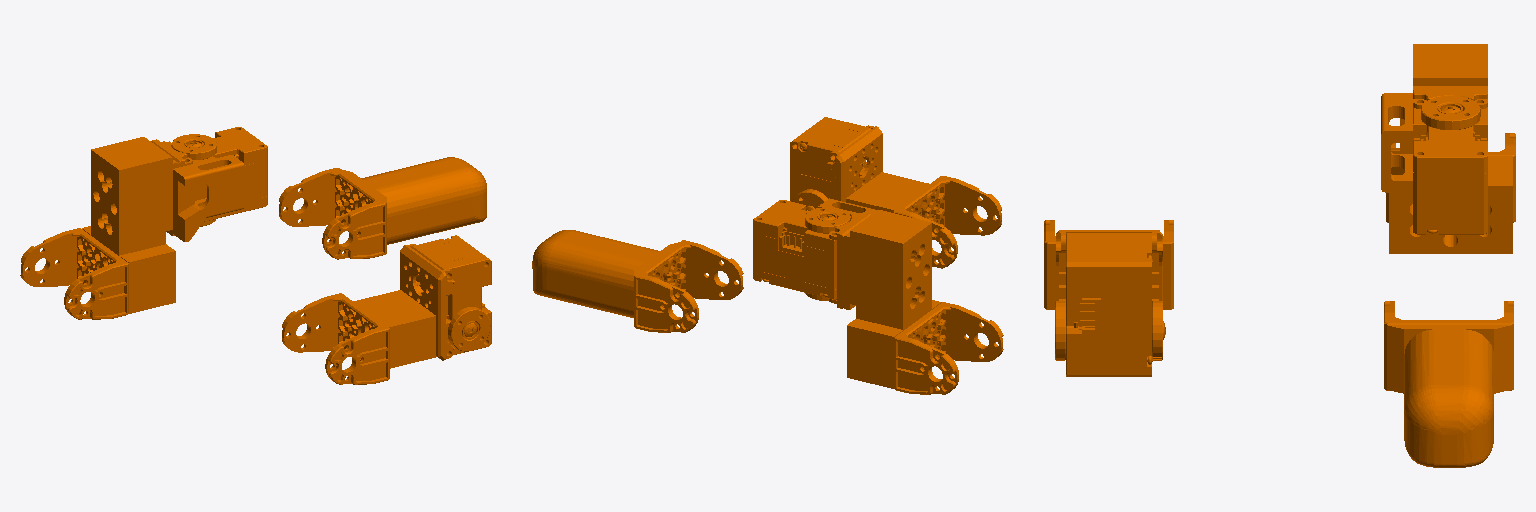
URDF robot description (onshape):
<robot name="onshape">
  <link name="palm_lower">
    <inertial>
      <origin xyz="0.0 0.0 0.0" rpy="0.0 -0.0 0.0"/>
      <mass value="0.237"/>
      <inertia ixx="0.000354094" ixy="-1.193e-06" ixz="-2.445e-06" iyy="0.000260915" iyz="-2.905e-06" izz="0.000529257"/>
    </inertial>
    <visual>
      <geometry>
        <mesh filename="../assets/leap/leap_hand/palm_lower.stl"/>
      </geometry>
      <origin xyz="-0.020095249652862544 0.025757756134899473 -0.034722403578460216" rpy="0.0 -0.0 0.0"/>
      <material name="palm_lower_material">
        <color rgba="0.6039215686274509 0.14901960784313725 0.14901960784313725 1.0"/>
      </material>
    </visual>
    <collision>
      <geometry>
        <mesh filename="../assets/leap/leap_hand/palm_lower.stl"/>
      </geometry>
      <origin xyz="-0.020095249652862544 0.025757756134899473 -0.034722403578460216" rpy="0.0 -0.0 0.0"/>
    </collision>
  </link>
  <link name="mcp_joint_long">
    <inertial>
      <origin xyz="0.0 0.0 0.0" rpy="0.0 -0.0 0.0"/>
      <mass value="0.044"/>
      <inertia ixx="1.1499e-05" ixy="3.049e-06" ixz="1.21e-07" iyy="7.796e-06" iyz="1.12e-07" izz="1.4759e-05"/>
    </inertial>
    <visual>
      <geometry>
        <mesh filename="custom_models/mcp_joint_long.stl"/>
      </geometry>
      <origin xyz="0.008406902261174496 0.0077662438597169954 0.014657354985032912" rpy="1.6375789613221e-15 -1.021047330249102e-30 1.7177968783327987e-31"/>
      <material name="mcp_joint_material">
        <color rgba="0.878 0.467 0.0 1.0"/>
      </material>
    </visual>
    <collision>
      <geometry>
        <mesh filename="custom_models/mcp_joint_long.stl"/>
      </geometry>
      <origin xyz="0.008406902261174496 0.0077662438597169954 0.014657354985032912" rpy="1.6375789613221e-15 -1.021047330249102e-30 1.7177968783327987e-31"/>
    </collision>
  </link>
  <link name="pip">
    <inertial>
      <origin xyz="0.0 0.0 0.0" rpy="0.0 -0.0 0.0"/>
      <mass value="0.032"/>
      <inertia ixx="4.798e-06" ixy="1.2e-08" ixz="4e-09" iyy="2.862e-06" iyz="1.1e-08" izz="4.234e-06"/>
    </inertial>
    <visual>
      <geometry>
        <mesh filename="../assets/leap/leap_hand/pip.stl"/>
      </geometry>
      <origin xyz="0.009643363092271328 0.0002999999999999895 0.0007840340104173765" rpy="-1.5707963267948966 -1.5707963267948963 0.0"/>
      <material name="pip_material">
        <color rgba="0.7490196078431373 0.7490196078431373 0.7490196078431373 1.0"/>
      </material>
    </visual>
    <collision>
      <geometry>
        <mesh filename="../assets/leap/leap_hand/pip.stl"/>
      </geometry>
      <origin xyz="0.009643363092271328 0.0002999999999999895 0.0007840340104173765" rpy="-1.5707963267948966 -1.5707963267948963 0.0"/>
    </collision>
  </link>
  <link name="dip">
    <inertial>
      <origin xyz="0.0 0.0 0.0" rpy="0.0 -0.0 0.0"/>
      <mass value="0.037"/>
      <inertia ixx="5.542e-06" ixy="-6.07e-07" ixz="-1.7e-08" iyy="5.727e-06" iyz="-2.3e-08" izz="6.682e-06"/>
    </inertial>
    <visual>
      <geometry>
        <mesh filename="../assets/leap/leap_hand/dip.stl"/>
      </geometry>
      <origin xyz="0.021133352895225003 -0.00843211914670488 0.00978508816209524" rpy="-3.141592653589793 4.507511124216441e-32 4.439548105392361e-32"/>
      <material name="dip_material">
        <color rgba="0.8666666666666667 0.8666666666666667 0.050980392156862744 1.0"/>
      </material>
    </visual>
    <collision>
      <geometry>
        <mesh filename="../assets/leap/leap_hand/dip.stl"/>
      </geometry>
      <origin xyz="0.021133352895225003 -0.00843211914670488 0.00978508816209524" rpy="-3.141592653589793 4.507511124216441e-32 4.439548105392361e-32"/>
    </collision>
  </link>
  <link name="fingertip_long">
    <inertial>
      <origin xyz="0.0 0.0 0.0" rpy="0.0 -0.0 0.0"/>
      <mass value="0.016"/>
      <inertia ixx="3.368e-06" ixy="1.15e-07" ixz="0.0" iyy="1.556e-06" iyz="0.0" izz="2.863e-06"/>
    </inertial>
    <visual>
      <geometry>
        <mesh filename="custom_models/fingertip_long.stl"/>
      </geometry>
      <origin xyz="0.013286424108533503 -0.006114238386541987 0.014499999999999498" rpy="3.141592653589793 1.1993117970061735e-33 4.439548105392361e-32"/>
      <material name="fingertip_material">
        <color rgba="0.878 0.467 0.0 1.0"/>
      </material>
    </visual>
    <collision>
      <geometry>
        <mesh filename="custom_models/fingertip_long.stl"/>
      </geometry>
      <origin xyz="0.013286424108533503 -0.006114238386541987 0.014499999999999498" rpy="3.141592653589793 1.1993117970061735e-33 4.439548105392361e-32"/>
    </collision>
  </link>
  <link name="pip_4">
    <inertial>
      <origin xyz="0.0 0.0 0.0" rpy="0.0 -0.0 0.0"/>
      <mass value="0.032"/>
      <inertia ixx="4.798e-06" ixy="1.2e-08" ixz="4e-09" iyy="2.862e-06" iyz="1.1e-08" izz="4.234e-06"/>
    </inertial>
    <visual>
      <geometry>
        <mesh filename="../assets/leap/leap_hand/pip.stl"/>
      </geometry>
      <origin xyz="-0.005356636907728671 0.0002999999999999999 0.0007840340104173782" rpy="-1.5707963267948966 -1.5707963267948963 0.0"/>
      <material name="pip_material">
        <color rgba="0.7490196078431373 0.7490196078431373 0.7490196078431373 1.0"/>
      </material>
    </visual>
    <collision>
      <geometry>
        <mesh filename="../assets/leap/leap_hand/pip.stl"/>
      </geometry>
      <origin xyz="-0.005356636907728671 0.0002999999999999999 0.0007840340104173782" rpy="-1.5707963267948966 -1.5707963267948963 0.0"/>
    </collision>
  </link>
  <link name="thumb_pip">
    <inertial>
      <origin xyz="0.0 0.0 0.0" rpy="0.0 -0.0 0.0"/>
      <mass value="0.003"/>
      <inertia ixx="5.93e-07" ixy="0.0" ixz="0.0" iyy="5.49e-07" iyz="0.0" izz="2.24e-07"/>
    </inertial>
    <visual>
      <geometry>
        <mesh filename="../assets/leap/leap_hand/thumb_pip.stl"/>
      </geometry>
      <origin xyz="0.011961920770611187 -5.30825383648903e-16 -0.0158526489566642" rpy="1.5707963267948966 1.6050198443300153e-46 -3.9204996250525193e-59"/>
      <material name="thumb_pip_material">
        <color rgba="0.8666666666666667 0.8666666666666667 0.050980392156862744 1.0"/>
      </material>
    </visual>
    <collision>
      <geometry>
        <mesh filename="../assets/leap/leap_hand/thumb_pip.stl"/>
      </geometry>
      <origin xyz="0.011961920770611187 -5.30825383648903e-16 -0.0158526489566642" rpy="1.5707963267948966 1.6050198443300153e-46 -3.9204996250525193e-59"/>
    </collision>
  </link>
  <link name="thumb_dip">
    <inertial>
      <origin xyz="0.0 0.0 0.0" rpy="0.0 -0.0 0.0"/>
      <mass value="0.038"/>
      <inertia ixx="8.474e-06" ixy="2.41e-07" ixz="2.6e-08" iyy="3.841e-06" iyz="2.5e-08" izz="7.679e-06"/>
    </inertial>
    <visual>
      <geometry>
        <mesh filename="../assets/leap/leap_hand/thumb_dip.stl"/>
      </geometry>
      <origin xyz="0.043968715707239175 0.0579529529737092 -0.008628676449369476" rpy="1.94289029309401e-16 3.27515792264422e-15 1.112375852965736e-46"/>
      <material name="thumb_dip_material">
        <color rgba="0.8666666666666667 0.8666666666666667 0.050980392156862744 1.0"/>
      </material>
    </visual>
    <collision>
      <geometry>
        <mesh filename="../assets/leap/leap_hand/thumb_dip.stl"/>
      </geometry>
      <origin xyz="0.043968715707239175 0.0579529529737092 -0.008628676449369476" rpy="1.94289029309401e-16 3.27515792264422e-15 1.112375852965736e-46"/>
    </collision>
  </link>
  <link name="thumb_fingertip">
    <inertial>
      <origin xyz="0.0 0.0 0.0" rpy="0.0 -0.0 0.0"/>
      <mass value="0.049"/>
      <inertia ixx="2.0372e-05" ixy="-4.89e-07" ixz="-3e-08" iyy="4.336e-06" iyz="-9.7e-08" izz="1.9845e-05"/>
    </inertial>
    <visual>
      <geometry>
        <mesh filename="../assets/leap/leap_hand/thumb_fingertip.stl"/>
      </geometry>
      <origin xyz="0.06255953846266739 0.07845968291139699 0.048992911807332215" rpy="4.379057701015637e-47 -3.33066907387547e-16 1.2042408677791935e-46"/>
      <material name="thumb_fingertip_material">
        <color rgba="0.6039215686274509 0.14901960784313725 0.14901960784313725 1.0"/>
      </material>
    </visual>
    <collision>
      <geometry>
        <mesh filename="../assets/leap/leap_hand/thumb_fingertip.stl"/>
      </geometry>
      <origin xyz="0.06255953846266739 0.07845968291139699 0.048992911807332215" rpy="4.379057701015637e-47 -3.33066907387547e-16 1.2042408677791935e-46"/>
    </collision>
  </link>
  <link name="mcp_joint_2">
    <inertial>
      <origin xyz="0.0 0.0 0.0" rpy="0.0 -0.0 0.0"/>
      <mass value="0.044"/>
      <inertia ixx="1.1499e-05" ixy="3.049e-06" ixz="1.21e-07" iyy="7.796e-06" iyz="1.12e-07" izz="1.4759e-05"/>
    </inertial>
    <visual>
      <geometry>
        <mesh filename="../assets/leap/leap_hand/mcp_joint.stl"/>
      </geometry>
      <origin xyz="0.008406902261174496 0.0077662438597169954 0.014657354985032914" rpy="1.6375789613221e-15 -1.0076465469034e-30 2.1209300131419907e-61"/>
      <material name="mcp_joint_material">
        <color rgba="0.8666666666666667 0.8666666666666667 0.050980392156862744 1.0"/>
      </material>
    </visual>
    <collision>
      <geometry>
        <mesh filename="../assets/leap/leap_hand/mcp_joint.stl"/>
      </geometry>
      <origin xyz="0.008406902261174496 0.0077662438597169954 0.014657354985032914" rpy="1.6375789613221e-15 -1.0076465469034e-30 2.1209300131419907e-61"/>
    </collision>
  </link>
  <link name="pip_2">
    <inertial>
      <origin xyz="0.0 0.0 0.0" rpy="0.0 -0.0 0.0"/>
      <mass value="0.032"/>
      <inertia ixx="4.798e-06" ixy="1.2e-08" ixz="4e-09" iyy="2.862e-06" iyz="1.1e-08" izz="4.234e-06"/>
    </inertial>
    <visual>
      <geometry>
        <mesh filename="../assets/leap/leap_hand/pip.stl"/>
      </geometry>
      <origin xyz="0.009643363092271328 0.0002999999999999947 0.0007840340104173765" rpy="-1.5707963267948966 -1.5707963267948963 0.0"/>
      <material name="pip_material">
        <color rgba="0.7490196078431373 0.7490196078431373 0.7490196078431373 1.0"/>
      </material>
    </visual>
    <collision>
      <geometry>
        <mesh filename="../assets/leap/leap_hand/pip.stl"/>
      </geometry>
      <origin xyz="0.009643363092271328 0.0002999999999999947 0.0007840340104173765" rpy="-1.5707963267948966 -1.5707963267948963 0.0"/>
    </collision>
  </link>
  <link name="dip_2">
    <inertial>
      <origin xyz="0.0 0.0 0.0" rpy="0.0 -0.0 0.0"/>
      <mass value="0.037"/>
      <inertia ixx="5.542e-06" ixy="-6.07e-07" ixz="-1.7e-08" iyy="5.727e-06" iyz="-2.3e-08" izz="6.682e-06"/>
    </inertial>
    <visual>
      <geometry>
        <mesh filename="../assets/leap/leap_hand/dip.stl"/>
      </geometry>
      <origin xyz="0.021133352895225003 -0.008432119146704865 0.009785088162095237" rpy="-3.141592653589793 2.1146933785271956e-32 1.4408183216511869e-31"/>
      <material name="dip_material">
        <color rgba="0.8666666666666667 0.8666666666666667 0.050980392156862744 1.0"/>
      </material>
    </visual>
    <collision>
      <geometry>
        <mesh filename="../assets/leap/leap_hand/dip.stl"/>
      </geometry>
      <origin xyz="0.021133352895225003 -0.008432119146704865 0.009785088162095237" rpy="-3.141592653589793 2.1146933785271956e-32 1.4408183216511869e-31"/>
    </collision>
  </link>
  <link name="fingertip_2">
    <inertial>
      <origin xyz="0.0 0.0 0.0" rpy="0.0 -0.0 0.0"/>
      <mass value="0.016"/>
      <inertia ixx="3.368e-06" ixy="1.15e-07" ixz="0.0" iyy="1.556e-06" iyz="0.0" izz="2.863e-06"/>
    </inertial>
    <visual>
      <geometry>
        <mesh filename="../assets/leap/leap_hand/fingertip.stl"/>
      </geometry>
      <origin xyz="0.013286424108533496 -0.006114238386542001 0.014499999999999496" rpy="3.141592653589793 -4.317959788283594e-33 1.4408183216511869e-31"/>
      <material name="fingertip_material">
        <color rgba="0.8666666666666667 0.8666666666666667 0.050980392156862744 1.0"/>
      </material>
    </visual>
    <collision>
      <geometry>
        <mesh filename="../assets/leap/leap_hand/fingertip.stl"/>
      </geometry>
      <origin xyz="0.013286424108533496 -0.006114238386542001 0.014499999999999496" rpy="3.141592653589793 -4.317959788283594e-33 1.4408183216511869e-31"/>
    </collision>
  </link>
  <link name="mcp_joint_3">
    <inertial>
      <origin xyz="0.0 0.0 0.0" rpy="0.0 -0.0 0.0"/>
      <mass value="0.044"/>
      <inertia ixx="1.1499e-05" ixy="3.049e-06" ixz="1.21e-07" iyy="7.796e-06" iyz="1.12e-07" izz="1.4759e-05"/>
    </inertial>
    <visual>
      <geometry>
        <mesh filename="../assets/leap/leap_hand/mcp_joint.stl"/>
      </geometry>
      <origin xyz="0.0084069022611745 0.007766243859716996 0.014657354985032914" rpy="1.6375789613221e-15 -1.0059504988632627e-30 5.729641584552035e-32"/>
      <material name="mcp_joint_material">
        <color rgba="0.8666666666666667 0.8666666666666667 0.050980392156862744 1.0"/>
      </material>
    </visual>
    <collision>
      <geometry>
        <mesh filename="../assets/leap/leap_hand/mcp_joint.stl"/>
      </geometry>
      <origin xyz="0.0084069022611745 0.007766243859716996 0.014657354985032914" rpy="1.6375789613221e-15 -1.0059504988632627e-30 5.729641584552035e-32"/>
    </collision>
  </link>
  <link name="pip_3">
    <inertial>
      <origin xyz="0.0 0.0 0.0" rpy="0.0 -0.0 0.0"/>
      <mass value="0.032"/>
      <inertia ixx="4.798e-06" ixy="1.2e-08" ixz="4e-09" iyy="2.862e-06" iyz="1.1e-08" izz="4.234e-06"/>
    </inertial>
    <visual>
      <geometry>
        <mesh filename="../assets/leap/leap_hand/pip.stl"/>
      </geometry>
      <origin xyz="0.009643363092271331 0.00029999999999998084 0.0007840340104173765" rpy="-1.5707963267948966 -1.5707963267948963 0.0"/>
      <material name="pip_material">
        <color rgba="0.7490196078431373 0.7490196078431373 0.7490196078431373 1.0"/>
      </material>
    </visual>
    <collision>
      <geometry>
        <mesh filename="../assets/leap/leap_hand/pip.stl"/>
      </geometry>
      <origin xyz="0.009643363092271331 0.00029999999999998084 0.0007840340104173765" rpy="-1.5707963267948966 -1.5707963267948963 0.0"/>
    </collision>
  </link>
  <link name="dip_3_long">
    <inertial>
      <origin xyz="0.0 0.0 0.0" rpy="0.0 -0.0 0.0"/>
      <mass value="0.037"/>
      <inertia ixx="5.542e-06" ixy="-6.07e-07" ixz="-1.7e-08" iyy="5.727e-06" iyz="-2.3e-08" izz="6.682e-06"/>
    </inertial>
    <visual>
      <geometry>
        <mesh filename="custom_models/dip_long.stl"/>
      </geometry>
      <origin xyz="0.021133352895225006 -0.008432119146704865 0.009785088162095237" rpy="-3.141592653589793 -1.4095651113919093e-33 1.5565411607615035e-32"/>
      <material name="dip_material">
        <color rgba="0.878 0.467 0.0 1.0"/>
      </material>
    </visual>
    <collision>
      <geometry>
        <mesh filename="custom_models/dip_long.stl"/>
      </geometry>
      <origin xyz="0.021133352895225006 -0.008432119146704865 0.009785088162095237" rpy="-3.141592653589793 -1.4095651113919093e-33 1.5565411607615035e-32"/>
    </collision>
  </link>
  <link name="fingertip_3">
    <inertial>
      <origin xyz="0.0 0.0 0.0" rpy="0.0 -0.0 0.0"/>
      <mass value="0.016"/>
      <inertia ixx="3.368e-06" ixy="1.15e-07" ixz="0.0" iyy="1.556e-06" iyz="0.0" izz="2.863e-06"/>
    </inertial>
    <visual>
      <geometry>
        <mesh filename="../assets/leap/leap_hand/fingertip.stl"/>
      </geometry>
      <origin xyz="0.013286424108533501 -0.006114238386541987 0.0144999999999995" rpy="3.141592653589793 8.61707169505754e-33 1.5565411607615035e-32"/>
      <material name="fingertip_material">
        <color rgba="0.8666666666666667 0.8666666666666667 0.050980392156862744 1.0"/>
      </material>
    </visual>
    <collision>
      <geometry>
        <mesh filename="../assets/leap/leap_hand/fingertip.stl"/>
      </geometry>
      <origin xyz="0.013286424108533501 -0.006114238386541987 0.0144999999999995" rpy="3.141592653589793 8.61707169505754e-33 1.5565411607615035e-32"/>
    </collision>
  </link>
  <joint name="1" type="revolute">
    <parent link="palm_lower"/>
    <child link="mcp_joint_long"/>
    <origin xyz="-0.007095249652862546 0.023057756134899472 -0.01872240357846022" rpy="1.570796326794895 1.5707963267948946 0.0"/>
    <axis xyz="0.0 0.0 -1.0"/>
    <limit effort="0.95" velocity="8.48" lower="-0.314" upper="2.23"/>
  </joint>
  <joint name="0" type="revolute">
    <parent link="mcp_joint_long"/>
    <child link="pip"/>
    <origin xyz="-0.012200000000000007713 0.053099999999999994982 0.014500000000000000736" rpy="-1.5707963267948966 -1.0065212660796337e-15 1.5707963267948943"/>
    <axis xyz="0.0 0.0 -1.0"/>
    <limit effort="0.95" velocity="8.48" lower="-1.047" upper="1.047"/>
  </joint>
  <joint name="2" type="revolute">
    <parent link="pip"/>
    <child link="dip"/>
    <origin xyz="0.014999999999999968 0.014299999999999905 -0.012999999999999824" rpy="1.570796326794896 -1.5707963267948963 0.0"/>
    <axis xyz="0.0 0.0 -1.0"/>
    <limit effort="0.95" velocity="8.48" lower="-0.506" upper="1.885"/>
  </joint>
  <joint name="3" type="revolute">
    <parent link="dip"/>
    <child link="fingertip_long"/>
    <origin xyz="-4.088058249557269e-09 -0.03610000421036737 0.0002000000000000786" rpy="4.5935029425113685e-17 -2.8730071914463795e-16 4.439548105392361e-32"/>
    <axis xyz="0.0 0.0 -1.0"/>
    <limit effort="0.95" velocity="8.48" lower="-0.366" upper="2.042"/>
  </joint>
  <joint name="12" type="revolute">
    <parent link="palm_lower"/>
    <child link="pip_4"/>
    <origin xyz="-0.06939524965286253 -0.0012422438651005258 -0.021622403578460216" rpy="-8.238176646493942e-17 1.5707963267948957 0.0"/>
    <axis xyz="0.0 0.0 -1.0"/>
    <limit effort="0.95" velocity="8.48" lower="-0.349" upper="2.094"/>
  </joint>
  <joint name="13" type="revolute">
    <parent link="pip_4"/>
    <child link="thumb_pip"/>
    <origin xyz="-2.7755575615628914e-17 0.014300000000000005 -0.013000000000000012" rpy="1.570796326794896 -1.5707963267948963 0.0"/>
    <axis xyz="0.0 0.0 -1.0"/>
    <limit effort="0.95" velocity="8.48" lower="-0.47" upper="2.443"/>
  </joint>
  <joint name="14" type="revolute">
    <parent link="thumb_pip"/>
    <child link="thumb_dip"/>
    <origin xyz="0.0 0.014499999999999966 -0.017000000000000053" rpy="-1.5707963267948966 1.6050198443300131e-46 -1.9721522630516625e-31"/>
    <axis xyz="0.0 0.0 -1.0"/>
    <limit effort="0.95" velocity="8.48" lower="-1.2" upper="1.9"/>
  </joint>
  <joint name="15" type="revolute">
    <parent link="thumb_dip"/>
    <child link="thumb_fingertip"/>
    <origin xyz="-1.249000902703301e-16 0.046599999999999864 0.0001999999999999771" rpy="1.506395849149178e-44 5.423418723393526e-31 3.141592653589793"/>
    <axis xyz="0.0 0.0 -1.0"/>
    <limit effort="0.95" velocity="8.48" lower="-1.34" upper="1.88"/>
  </joint>
  <joint name="5" type="revolute">
    <parent link="palm_lower"/>
    <child link="mcp_joint_2"/>
    <origin xyz="-0.007095249652862546 -0.022392243865100525 -0.01872240357846022" rpy="1.570796326794895 1.5707963267948946 0.0"/>
    <axis xyz="0.0 0.0 -1.0"/>
    <limit effort="0.95" velocity="8.48" lower="-0.314" upper="2.23"/>
  </joint>
  <joint name="4" type="revolute">
    <parent link="mcp_joint_2"/>
    <child link="pip_2"/>
    <origin xyz="-0.012200000000000008 0.038099999999999995 0.0145" rpy="-1.5707963267948966 -1.0065212660796337e-15 1.5707963267948943"/>
    <axis xyz="0.0 0.0 -1.0"/>
    <limit effort="0.95" velocity="8.48" lower="-1.047" upper="1.047"/>
  </joint>
  <joint name="6" type="revolute">
    <parent link="pip_2"/>
    <child link="dip_2"/>
    <origin xyz="0.014999999999999968 0.014299999999999905 -0.012999999999999824" rpy="1.570796326794896 -1.5707963267948963 0.0"/>
    <axis xyz="0.0 0.0 -1.0"/>
    <limit effort="0.95" velocity="8.48" lower="-0.506" upper="1.885"/>
  </joint>
  <joint name="7" type="revolute">
    <parent link="dip_2"/>
    <child link="fingertip_2"/>
    <origin xyz="-4.088058249557269e-09 -0.03610000421036737 0.0002000000000000786" rpy="4.5935029425113685e-17 -2.8730071914463795e-16 4.439548105392361e-32"/>
    <axis xyz="0.0 0.0 -1.0"/>
    <limit effort="0.95" velocity="8.48" lower="-0.366" upper="2.042"/>
  </joint>
  <joint name="9" type="revolute">
    <parent link="palm_lower"/>
    <child link="mcp_joint_3"/>
    <origin xyz="-0.007095249652862546 -0.06784224386510052 -0.01872240357846022" rpy="1.570796326794895 1.5707963267948946 0.0"/>
    <axis xyz="0.0 0.0 -1.0"/>
    <limit effort="0.95" velocity="8.48" lower="-0.314" upper="2.23"/>
  </joint>
  <joint name="8" type="revolute">
    <parent link="mcp_joint_3"/>
    <child link="pip_3"/>
    <origin xyz="-0.012200000000000008 0.038099999999999995 0.0145" rpy="-1.5707963267948966 -1.0065212660796337e-15 1.5707963267948943"/>
    <axis xyz="0.0 0.0 -1.0"/>
    <limit effort="0.95" velocity="8.48" lower="-1.047" upper="1.047"/>
  </joint>
  <joint name="10" type="revolute">
    <parent link="pip_3"/>
    <child link="dip_3_long"/>
    <origin xyz="0.014999999999999968 0.014299999999999905 -0.012999999999999824" rpy="1.570796326794896 -1.5707963267948963 0.0"/>
    <axis xyz="0.0 0.0 -1.0"/>
    <limit effort="0.95" velocity="8.48" lower="-0.506" upper="1.885"/>
  </joint>
  <joint name="11" type="revolute">
    <parent link="dip_3_long"/>
    <child link="fingertip_3"/>
    <origin xyz="-4.0880582495572692636e-09 -0.051100004210367367397 0.00020000000000007858714" rpy="4.5935029425113685e-17 -2.8730071914463795e-16 4.439548105392361e-32"/>
    <axis xyz="0.0 0.0 -1.0"/>
    <limit effort="0.95" velocity="8.48" lower="-0.366" upper="2.042"/>
  </joint>
</robot>

--- What the picture shows (computed from the rendered views, not written in the file) ---
Views: 3 orthographic renders of the robot side by side, from view 1: azimuth 30°, elevation 25°; view 2: azimuth 150°, elevation 25°; view 3: azimuth 270°, elevation 25°.
Model onshape with 17 links and 16 joints (16 revolute), rooted at palm_lower, posed all joints at 0.
Visible links, largest first — view 1: mcp_joint_long, dip_3_long, fingertip_long; view 2: mcp_joint_long, fingertip_long, dip_3_long; view 3: mcp_joint_long, dip_3_long, fingertip_long.
Link boxes in pixels (<box>): mcp_joint_long: <box>20,127,267,319</box>; dip_3_long: <box>282,235,491,384</box>; fingertip_long: <box>279,157,486,259</box>; mcp_joint_long: <box>753,198,1003,394</box>; fingertip_long: <box>532,230,743,332</box>; dip_3_long: <box>790,117,1001,268</box>; mcp_joint_long: <box>1381,44,1515,253</box>; dip_3_long: <box>1044,220,1173,376</box>; fingertip_long: <box>1384,301,1513,467</box>.
Size in the robot's own frame: 0.1766 by 0.1257 by 0.0549 metres.
3 mesh visuals loaded from 11 distinct referenced files (3 binary STL); not drawn: 14 (reference not matched to a file when rendering).